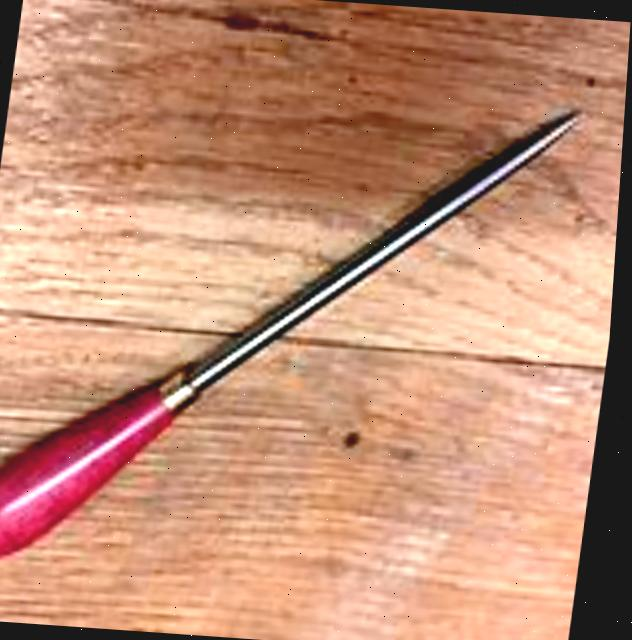ice pick: (0, 70, 595, 595)
